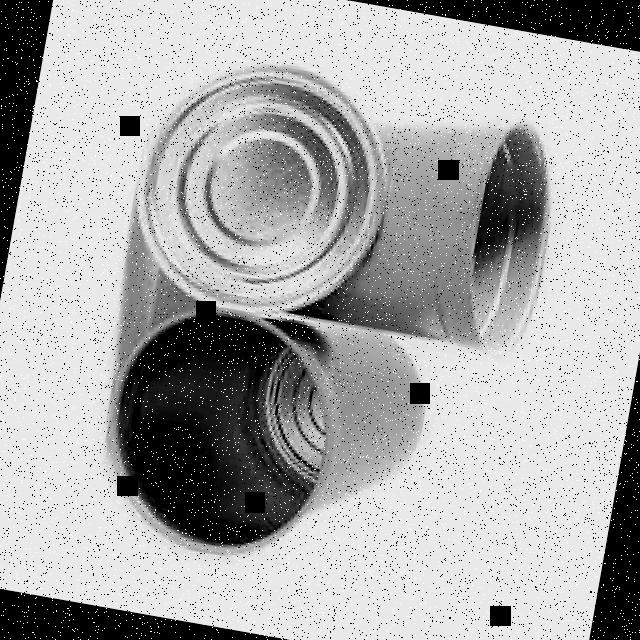can: (88, 286, 439, 592), (116, 38, 408, 334), (286, 89, 567, 358)
